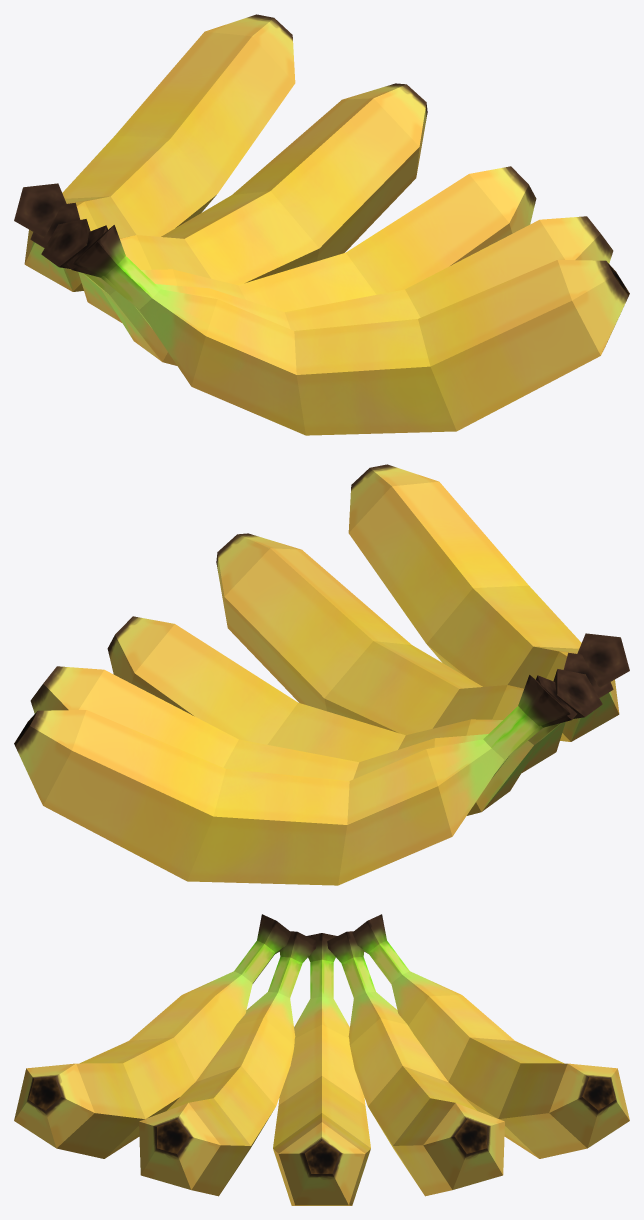
File: banana.gltf
3 views of the same model, one above another, from view 1: azimuth 30°, elevation 25°; view 2: azimuth 150°, elevation 25°; view 3: azimuth 270°, elevation 25° (orthographic). The views are drawn at different scales.
Parts seen in each view (by area): view 1: Banana.3; view 2: Banana.3; view 3: Banana.3.
Part boxes in pixels (x1=…): Banana.3: x1=14, y1=14, x2=629, y2=435; Banana.3: x1=14, y1=464, x2=629, y2=885; Banana.3: x1=14, y1=914, x2=629, y2=1205.
Size of the model in its own units: 0.2027 by 0.0846 by 0.2763.
1 material, 1 textured.
